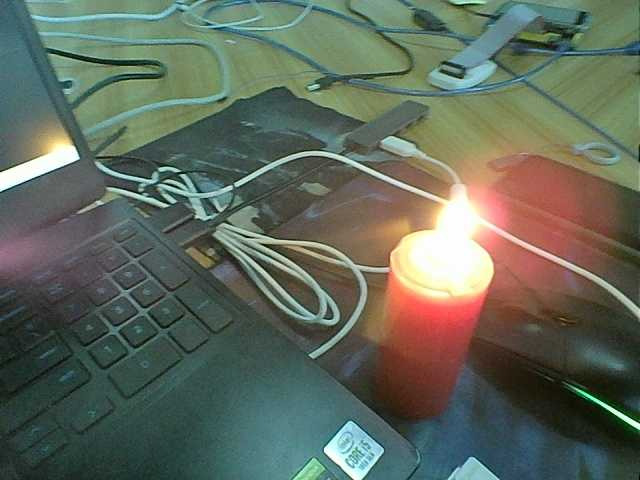candle: (375, 229, 495, 433)
fire: (405, 181, 484, 294), (27, 128, 86, 168)
